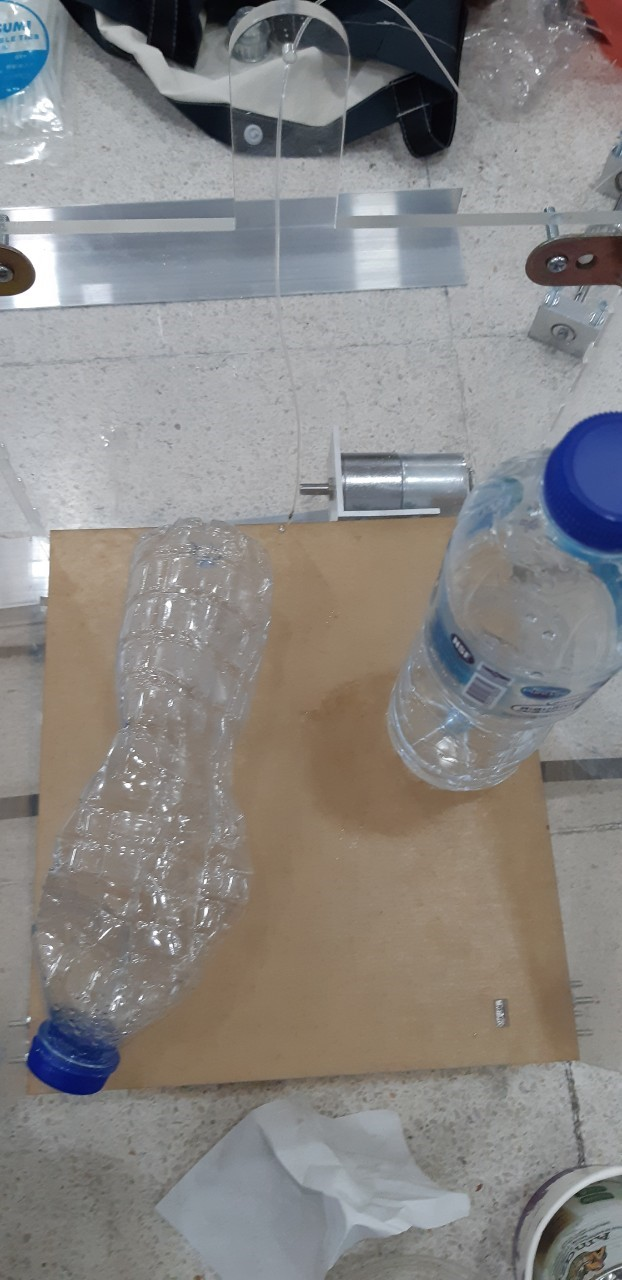PlasticBottle: (26, 525, 274, 1101), (384, 409, 622, 795)
